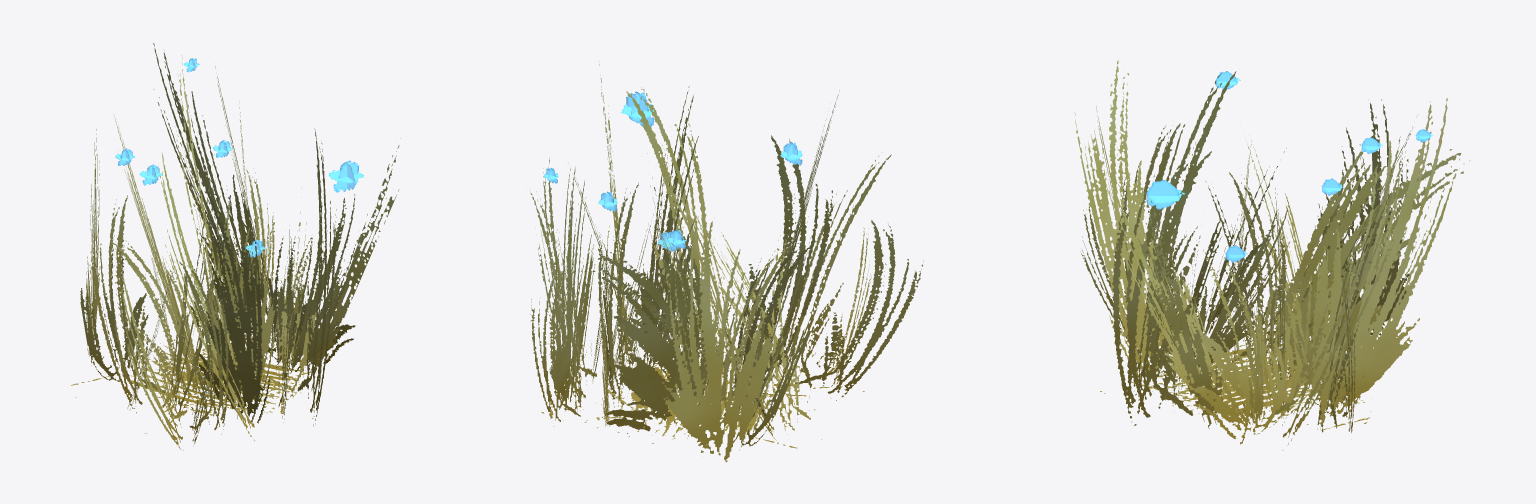
Rendered from grass27.fbx.
3 renders of one model, left to right at view 1: azimuth 30°, elevation 25°; view 2: azimuth 150°, elevation 25°; view 3: azimuth 270°, elevation 25°, orthographic. The views are drawn at different scales.
Visible parts, largest first — view 1: Glowing Flower 2_BAKED; view 2: Glowing Flower 2_BAKED; view 3: Glowing Flower 2_BAKED.
Part boxes in pixels (x1,y1,x2,y2): Glowing Flower 2_BAKED: [71, 43, 400, 450]; Glowing Flower 2_BAKED: [529, 61, 923, 461]; Glowing Flower 2_BAKED: [1074, 57, 1469, 450].
Size of the model in its own units: 50.19 by 49.4 by 41.15.
